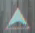Speed Breaker ahead: (4, 5, 31, 30)
